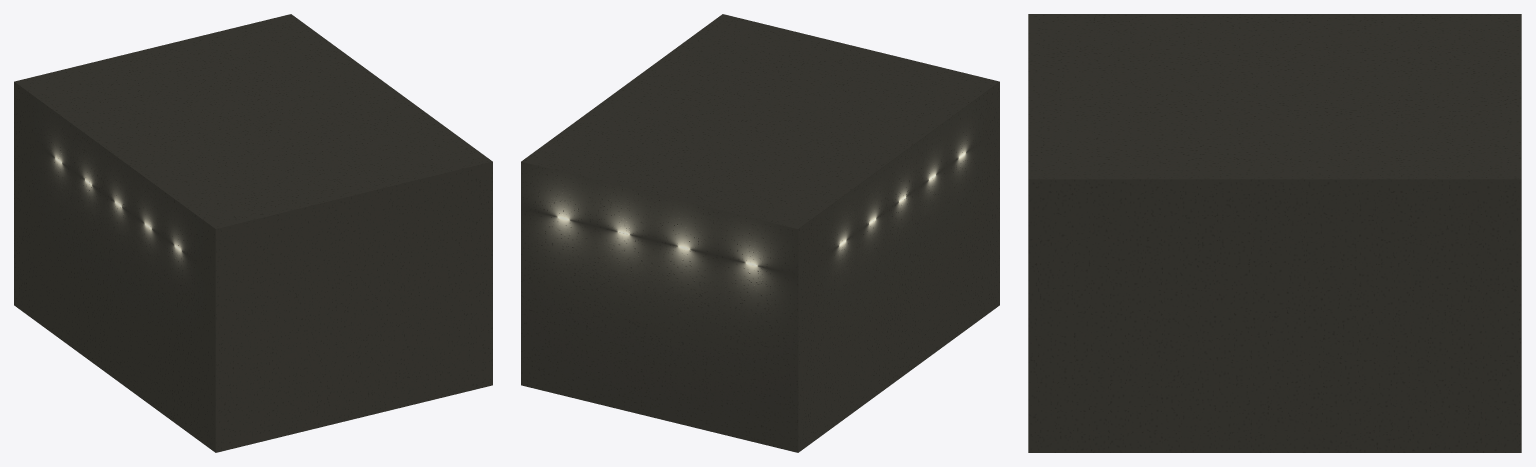
Rendered from Test_Lighting_001.gltf.
3 renders of one model, left to right at view 1: azimuth 30°, elevation 25°; view 2: azimuth 150°, elevation 25°; view 3: azimuth 270°, elevation 25°, orthographic. The views are drawn at different scales.
Visible parts, largest first — view 1: Cube; view 2: Cube; view 3: Cube.
Part boxes in pixels (bbox=[...]): Cube: bbox=[14, 14, 492, 452]; Cube: bbox=[521, 14, 999, 452]; Cube: bbox=[1028, 14, 1521, 452].
Size of the model in its own units: 10.76 by 8.29 by 13.56.
1 material, 1 textured.
